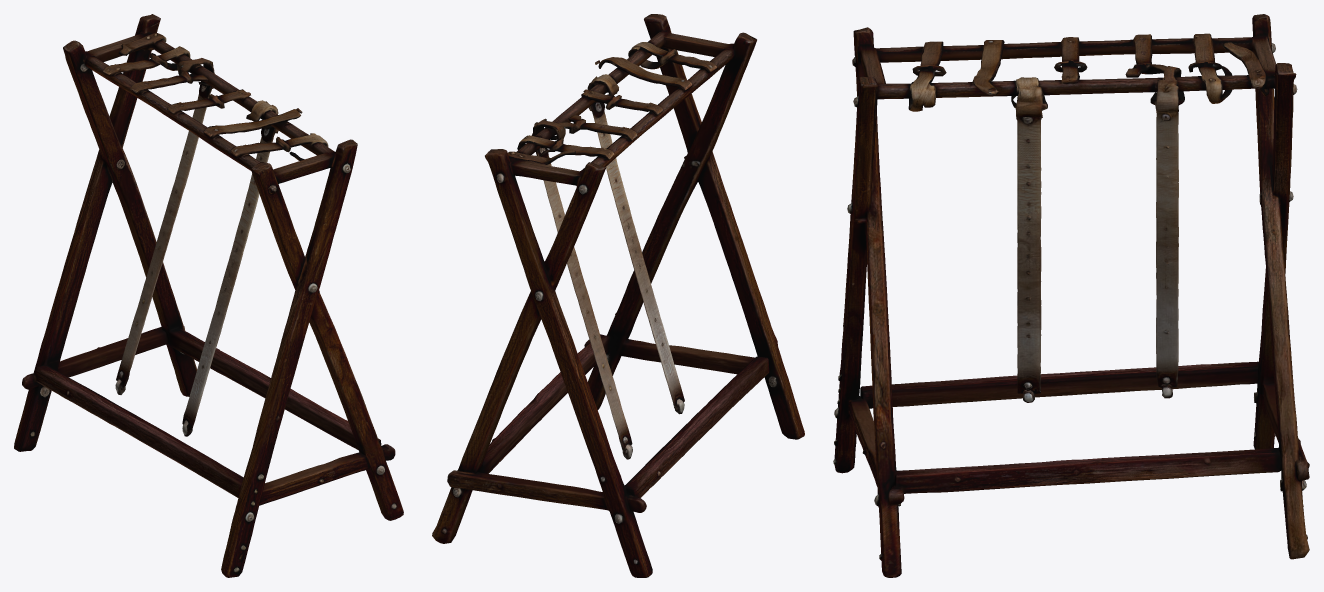
Rendered from theme-hotel-luggage-rack-v05.glb.
3 views of the same model, side by side, from view 1: azimuth 30°, elevation 25°; view 2: azimuth 150°, elevation 25°; view 3: azimuth 270°, elevation 25° (orthographic). The views are drawn at different scales.
Parts seen in each view (by area): view 1: tripo_node_1ccd0621-11bf-43fd-815b-6caf99489e29; view 2: tripo_node_1ccd0621-11bf-43fd-815b-6caf99489e29; view 3: tripo_node_1ccd0621-11bf-43fd-815b-6caf99489e29.
Boxes of the visible parts, <box> form: tripo_node_1ccd0621-11bf-43fd-815b-6caf99489e29: <box>14,14,403,577</box>; tripo_node_1ccd0621-11bf-43fd-815b-6caf99489e29: <box>432,14,804,577</box>; tripo_node_1ccd0621-11bf-43fd-815b-6caf99489e29: <box>833,14,1309,577</box>.
Size of the model in its own units: 0.3346 by 0.56 by 0.5163.
Materials: 1 (1 with a texture image).
